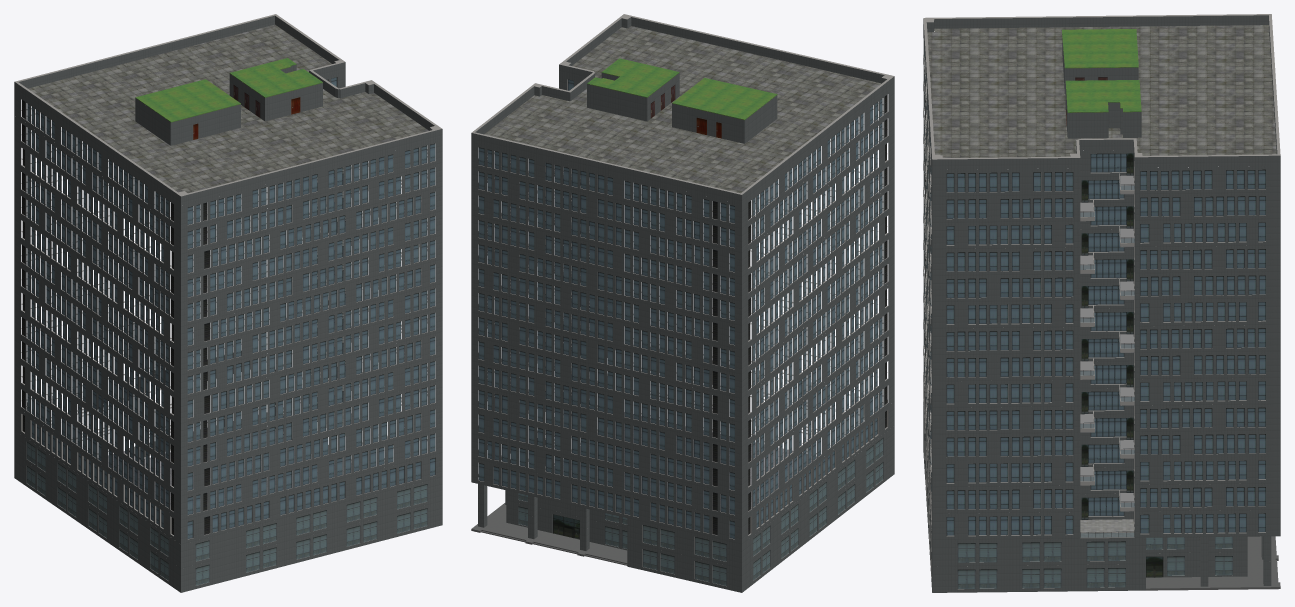
3 views of the same model, side by side, from view 1: azimuth 30°, elevation 25°; view 2: azimuth 150°, elevation 25°; view 3: azimuth 270°, elevation 25° (orthographic). The views are drawn at different scales.
Visible parts, largest first — view 1: A001-A001-Ding, A001-A001-F001, A001-A001-F003, A001-A001-F006, A001-A001-F009, A001-A001-F010, A001-A001-F007, A001-A001-F004, A001-A001-F016, A001-A001-F012, A001-A001-F002, A001-A001-F013 (+5 smaller); view 2: A001-A001-Ding, A001-A001-F001, A001-A001-F003, A001-A001-F009, A001-A001-F006, A001-A001-F007, A001-A001-F016, A001-A001-F010, A001-A001-F004, A001-A001-F012, A001-A001-F013, A001-A001-F005 (+5 smaller); view 3: A001-A001-Ding, A001-A001-F001, A001-A001-F003, A001-A001-F016, A001-A001-F004, A001-A001-F008, A001-A001-F010, A001-A001-F006, A001-A001-F007, A001-A001-F013, A001-A001-F014, A001-A001-F011 (+5 smaller).
Part boxes in pixels (left/top/right/bottom): A001-A001-Ding: left=14, top=14, right=442, bottom=205; A001-A001-F001: left=14, top=402, right=442, bottom=592; A001-A001-F003: left=14, top=344, right=442, bottom=544; A001-A001-F006: left=14, top=271, right=442, bottom=471; A001-A001-F009: left=14, top=199, right=442, bottom=399; A001-A001-F010: left=14, top=182, right=442, bottom=375; A001-A001-F007: left=14, top=246, right=442, bottom=447; A001-A001-F004: left=14, top=319, right=442, bottom=520; A001-A001-F016: left=14, top=71, right=442, bottom=230; A001-A001-F012: left=14, top=167, right=442, bottom=326; A001-A001-F002: left=14, top=370, right=442, bottom=568; A001-A001-F013: left=14, top=149, right=442, bottom=302; A001-A001-Ding: left=471, top=14, right=894, bottom=204; A001-A001-F001: left=471, top=397, right=894, bottom=592; A001-A001-F003: left=471, top=345, right=894, bottom=544; A001-A001-F009: left=471, top=199, right=894, bottom=398; A001-A001-F006: left=471, top=272, right=894, bottom=471; A001-A001-F007: left=471, top=248, right=894, bottom=447; A001-A001-F016: left=471, top=74, right=894, bottom=228; A001-A001-F010: left=471, top=185, right=894, bottom=374; A001-A001-F004: left=471, top=321, right=894, bottom=519; A001-A001-F012: left=471, top=164, right=894, bottom=325; A001-A001-F013: left=471, top=148, right=894, bottom=301; A001-A001-F005: left=471, top=296, right=894, bottom=495; A001-A001-Ding: left=923, top=14, right=1280, bottom=169; A001-A001-F001: left=923, top=426, right=1280, bottom=592; A001-A001-F003: left=923, top=373, right=1280, bottom=539; A001-A001-F016: left=923, top=30, right=1280, bottom=196; A001-A001-F004: left=923, top=347, right=1280, bottom=513; A001-A001-F008: left=923, top=241, right=1280, bottom=407; A001-A001-F010: left=923, top=188, right=1280, bottom=354; A001-A001-F006: left=923, top=294, right=1280, bottom=460; A001-A001-F007: left=923, top=267, right=1280, bottom=434; A001-A001-F013: left=923, top=109, right=1280, bottom=275; A001-A001-F014: left=923, top=82, right=1280, bottom=249; A001-A001-F011: left=923, top=162, right=1280, bottom=328.
Bounding box in the file's own units: 4.49 × 6.47 × 4.65.
Materials: 118 (118 with a texture image).
